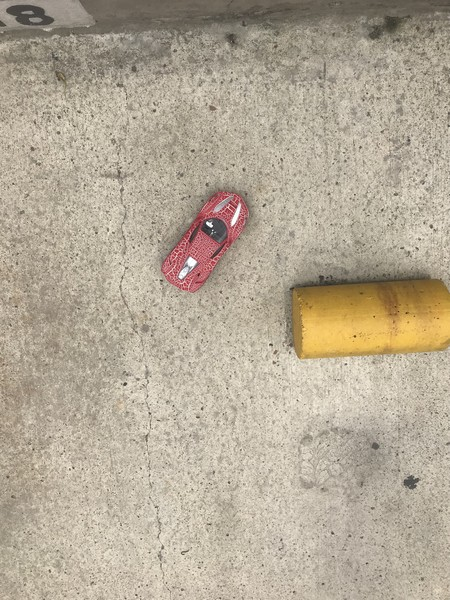RC: (160, 190, 251, 295)
